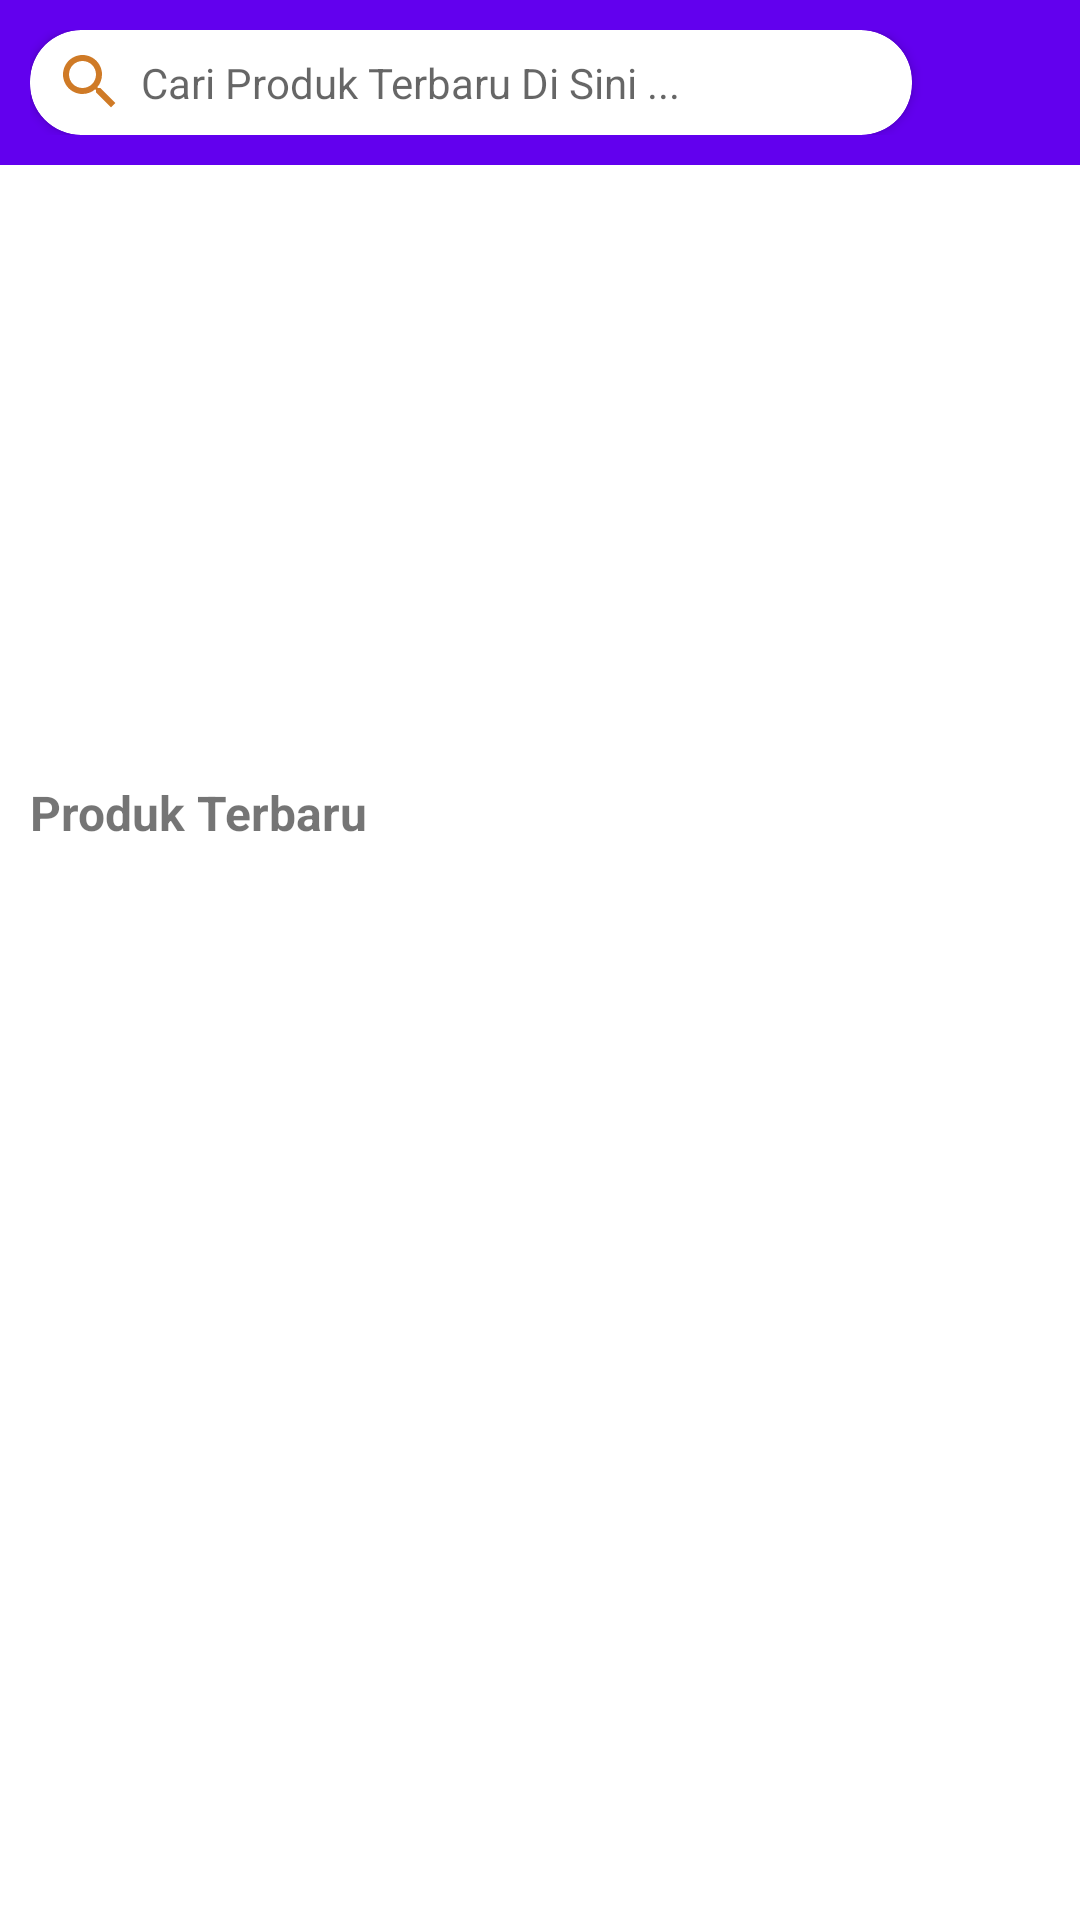

Where icons sit on this 1080w x 1920h app screen, as bbox=(x1, y1, x2, y2):
search: bbox=(63, 55, 115, 107)
